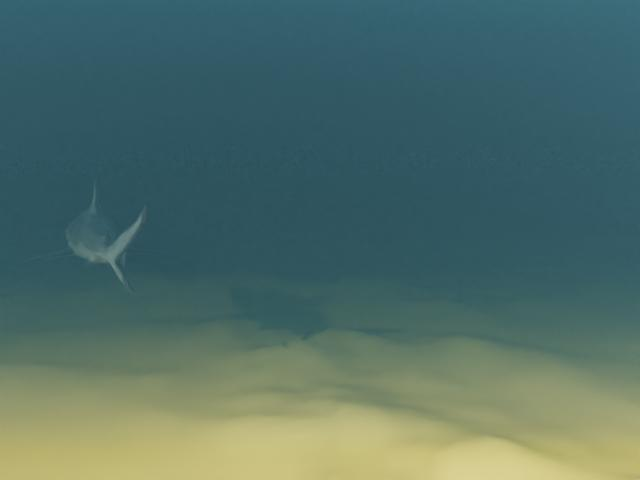Carribean Shark.001: (9, 178, 181, 294)
